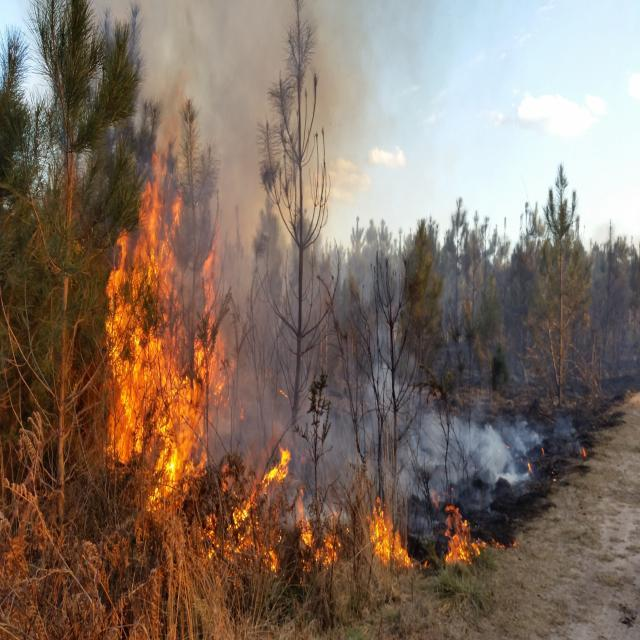Fire: (94, 165, 220, 527), (207, 446, 290, 580), (362, 503, 417, 588), (296, 500, 343, 584), (440, 510, 480, 572)
Smoke: (221, 7, 319, 426), (326, 372, 502, 492)
